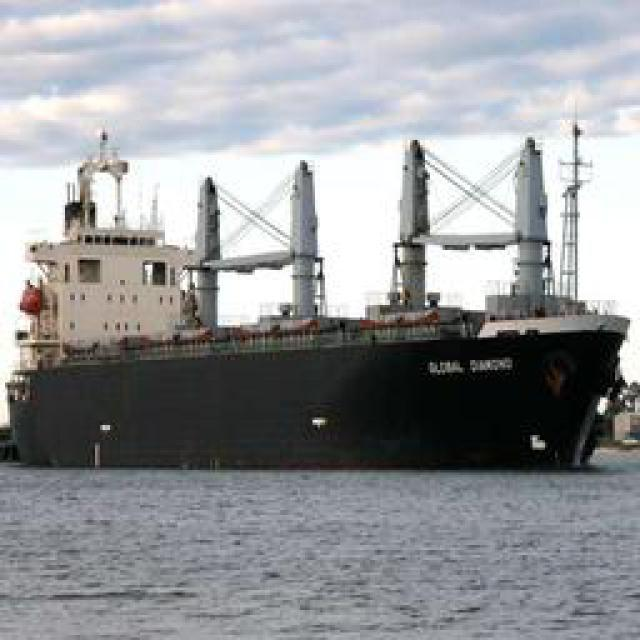Ship: (5, 122, 635, 465)
